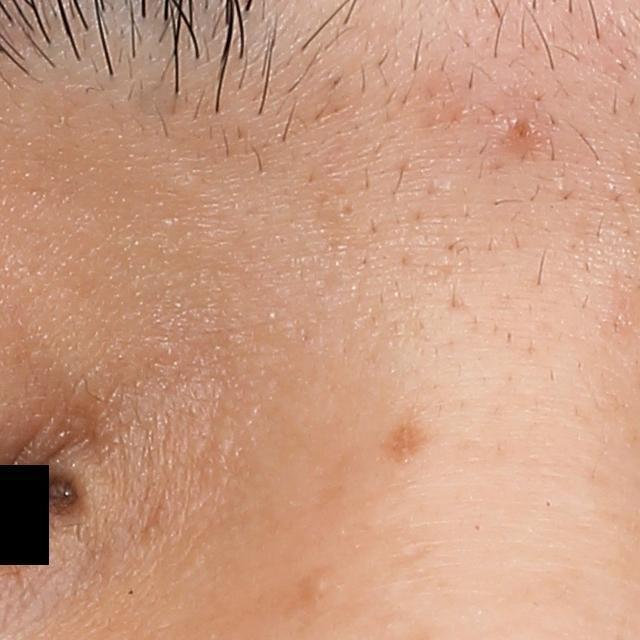melasma: (373, 413, 434, 464)
